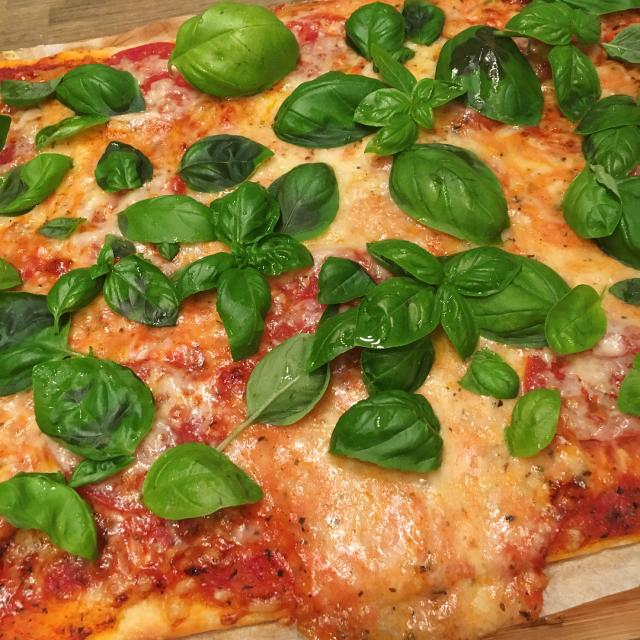basil: (216, 334, 338, 449), (165, 1, 302, 100), (386, 141, 512, 247), (32, 354, 156, 460), (436, 25, 540, 128), (468, 251, 576, 350), (0, 467, 102, 568), (140, 443, 269, 522), (270, 71, 396, 146), (332, 394, 448, 474), (350, 275, 452, 355), (0, 292, 68, 394), (358, 63, 432, 156), (100, 255, 178, 329), (262, 161, 336, 239), (560, 162, 626, 248), (112, 194, 215, 249), (176, 134, 280, 186), (433, 276, 489, 371), (579, 91, 640, 176), (508, 1, 608, 52), (219, 264, 270, 360), (360, 340, 437, 402), (549, 39, 602, 124), (547, 281, 607, 356), (210, 183, 276, 250), (365, 234, 451, 284), (170, 247, 242, 306), (595, 173, 640, 266), (1, 154, 71, 212), (342, 0, 400, 70), (504, 388, 562, 456), (442, 248, 524, 296), (58, 69, 140, 114), (46, 267, 102, 330), (311, 307, 362, 374), (94, 140, 155, 192), (466, 348, 516, 406), (322, 258, 380, 306), (392, 3, 450, 49), (36, 118, 110, 150), (233, 242, 310, 271), (599, 22, 640, 71), (615, 350, 640, 420), (2, 76, 56, 108), (555, 0, 635, 17), (40, 216, 88, 240), (610, 274, 640, 310), (0, 257, 25, 292)
pizza: (0, 0, 640, 640)
